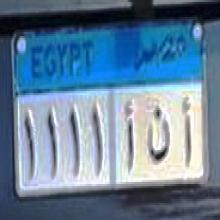1: (45, 105, 61, 177), (22, 110, 38, 179), (90, 103, 104, 175), (68, 106, 82, 177)
alif: (123, 94, 139, 180), (180, 92, 194, 171)
noon: (146, 98, 170, 167)
